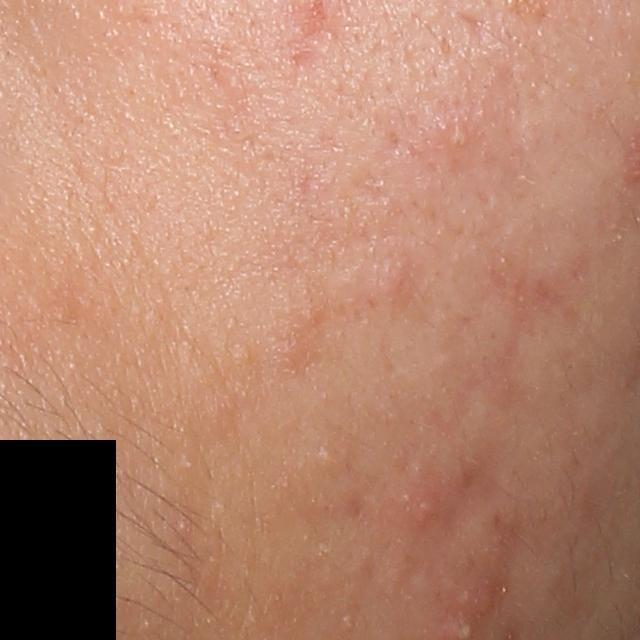atrophic_scar: (450, 1, 508, 48)
comedo: (314, 442, 336, 468)
